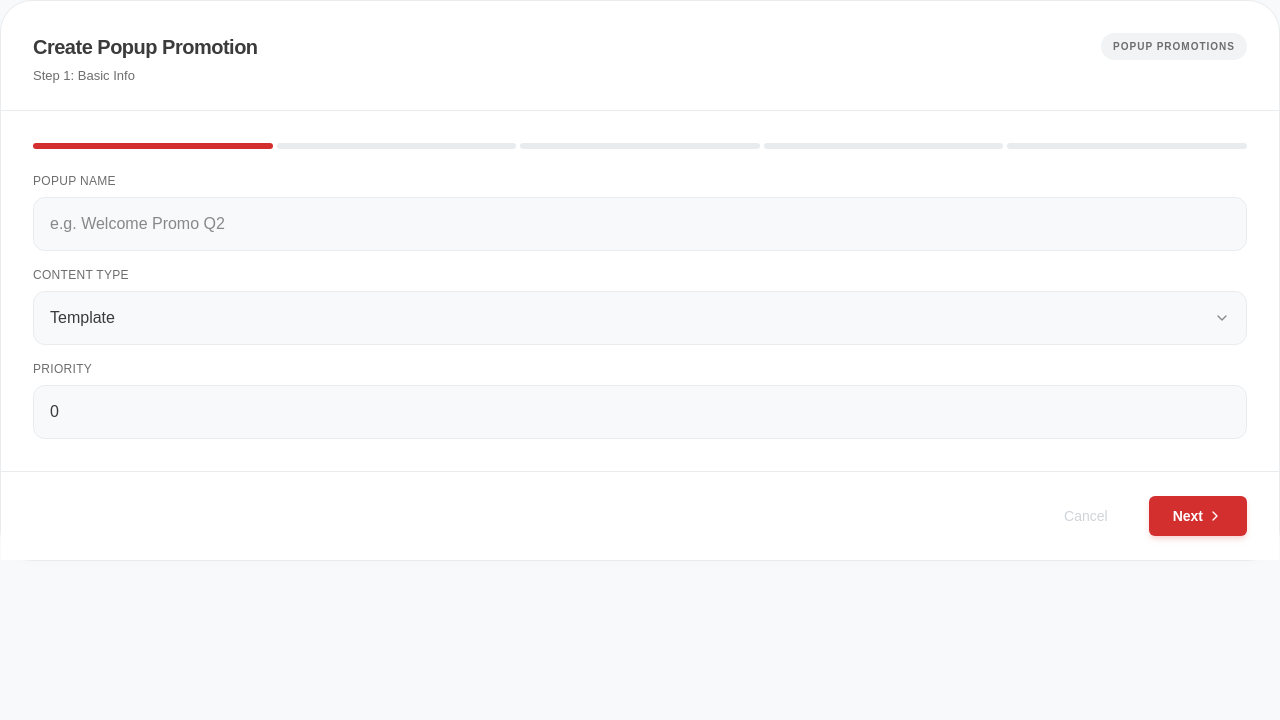
PopupPromotionCreatePage › step 3: targeting › renders user type buttons
The width and height of the screenshot is (1280, 720).
Click the button "Next": (1198, 516) [1149,496,1247,536]
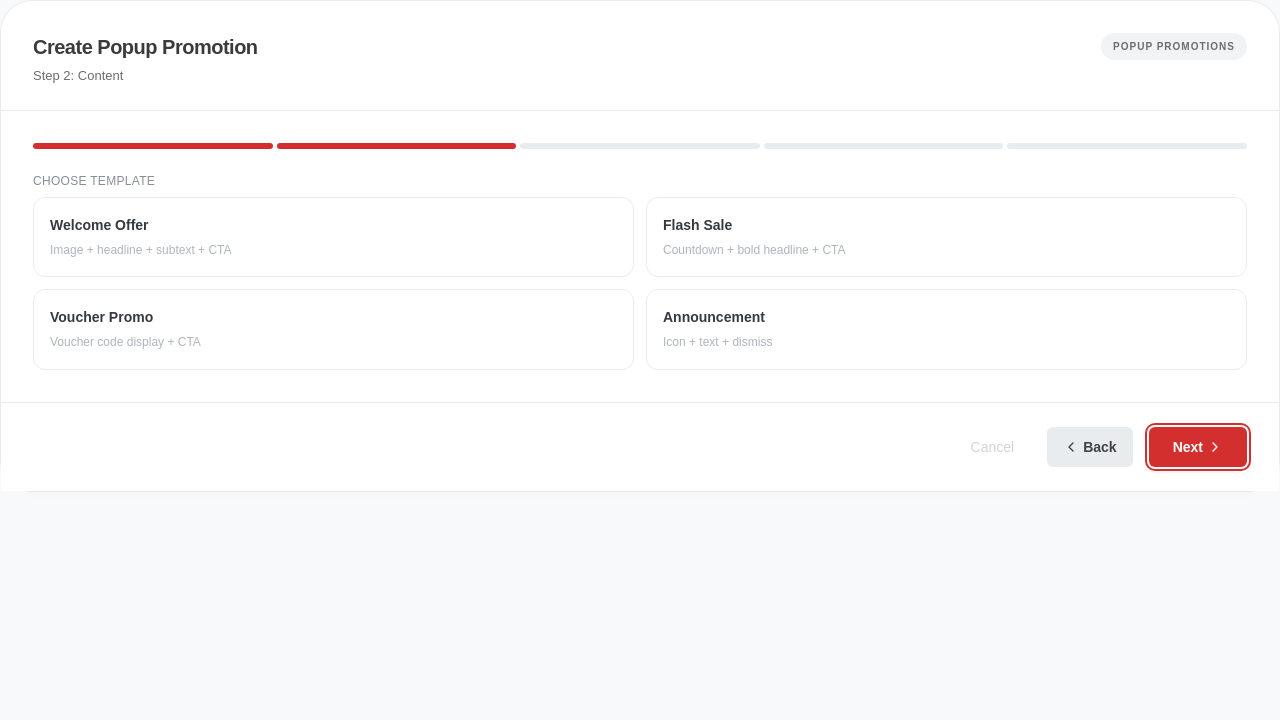
Click the button "Next": (1198, 447) [1149,427,1247,467]
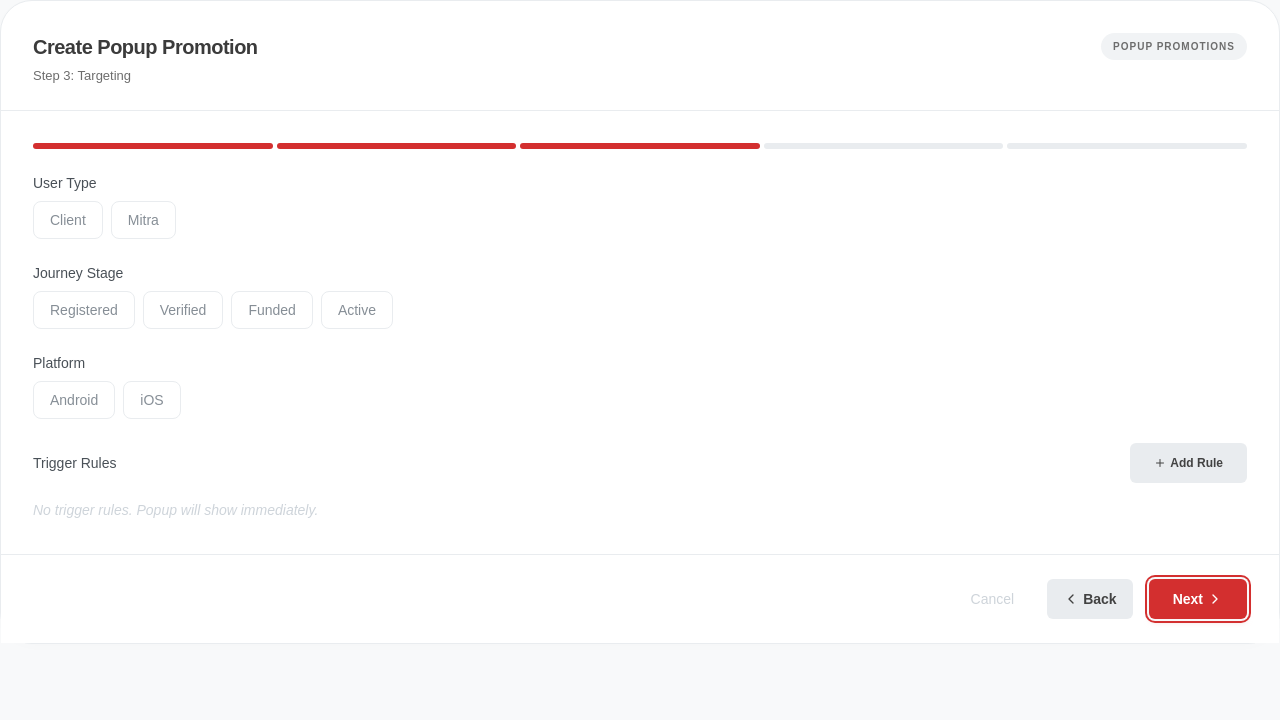
Now the button "Client" is shown, box [33,201,103,239]
Now the button "Mitra" is shown, box [111,201,176,239]
